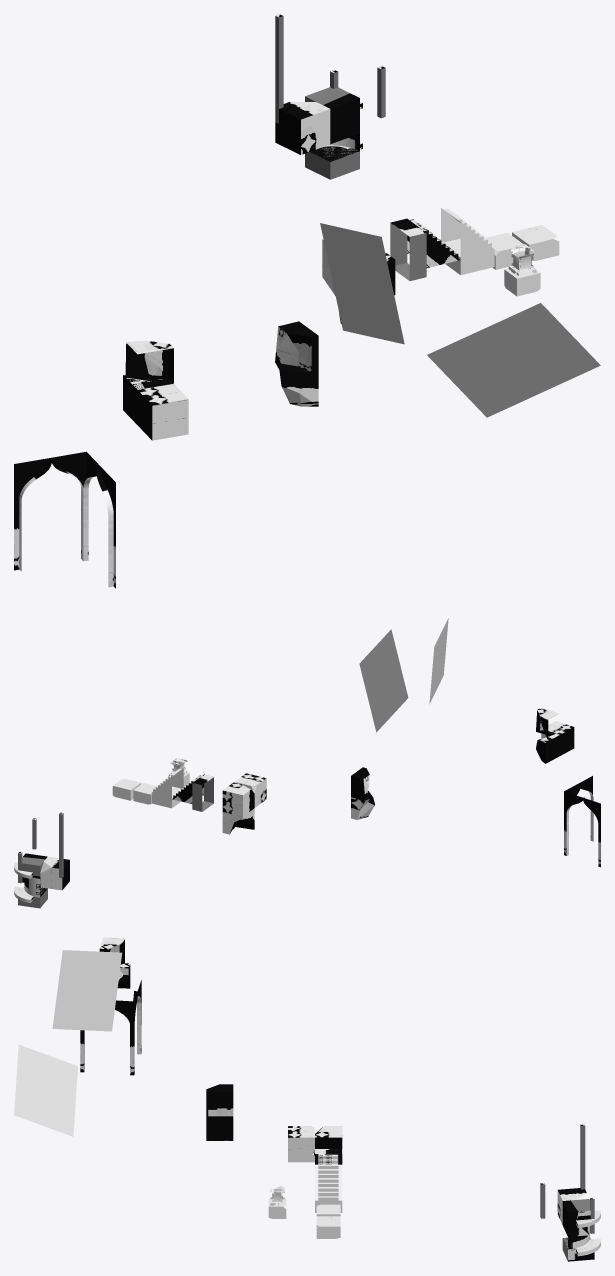
Rendered from Lighthouse.fbx.
3 renders of one model, top to bottom at view 1: azimuth 30°, elevation 25°; view 2: azimuth 150°, elevation 25°; view 3: azimuth 270°, elevation 25°, orthographic. The views are drawn at different scales.
Visible parts, largest first — view 1: Tree_trunk1 (6), Tree_trunk1 (8), Chipped_Cube2, Chipped_Cube4, Arches_Onion_Large (1), Chipped_SplitCube_E_NoBackfaces, Whitebox_cube, Arches_Onion_Large, Chipped_SplitCube_F, Chipped_Crumbled2, Whitebox_Stairs_Inset, Chipped_SplitCube_E (+7 smaller); view 2: Tree_trunk1 (6), Chipped_Cube2 (×2), Chipped_Crumbled2 (×2), Arches_Onion_Large (1), Chipped_Cube4, Tree_trunk1 (8), Whitebox_cube, Chipped_Cube3, Chipped_Crumbled1, Chipped_SplitCube_F, Whitebox_Stairs_Inset, Departure_PierSection2 (10) (+2 smaller); view 3: Tree_trunk1 (8), Tree_trunk1 (6), Whitebox_Stairs_Inset, Chipped_Cube3, Chipped_SplitCube_F, Arches_Onion_Large, Chipped_Crumbled2, Chipped_Cube2, Chipped_SplitCube_E, Departure_PierSection2 (10), Arches_Onion_Large (1), Chipped_Cube4.
Part boxes in pixels (bbox=[...]): Tree_trunk1 (6): bbox=[427, 303, 600, 417]; Tree_trunk1 (8): bbox=[320, 223, 404, 344]; Chipped_Cube2: bbox=[137, 383, 188, 440]; Chipped_Cube4: bbox=[275, 102, 330, 154]; Arches_Onion_Large (1): bbox=[14, 451, 86, 571]; Chipped_SplitCube_E_NoBackfaces: bbox=[125, 340, 173, 389]; Whitebox_cube: bbox=[390, 218, 426, 280]; Arches_Onion_Large: bbox=[83, 452, 115, 588]; Chipped_SplitCube_F: bbox=[275, 321, 318, 372]; Chipped_Crumbled2: bbox=[275, 362, 318, 406]; Whitebox_Stairs_Inset: bbox=[441, 208, 493, 257]; Chipped_SplitCube_E: bbox=[323, 93, 359, 144]; Tree_trunk1 (6): bbox=[359, 629, 408, 732]; Chipped_Cube2 (×2): bbox=[222, 721, 574, 816]; Chipped_Crumbled2 (×2): bbox=[351, 733, 559, 819]; Arches_Onion_Large (1): bbox=[564, 791, 600, 867]; Chipped_Cube4: bbox=[40, 856, 69, 890]; Tree_trunk1 (8): bbox=[429, 618, 448, 704]; Whitebox_cube: bbox=[192, 774, 213, 811]; Chipped_Cube3: bbox=[234, 773, 266, 807]; Chipped_Crumbled1: bbox=[222, 808, 254, 834]; Chipped_SplitCube_F: bbox=[351, 767, 369, 800]; Whitebox_Stairs_Inset: bbox=[152, 768, 183, 797]; Departure_PierSection2 (10): bbox=[112, 779, 141, 800]; Tree_trunk1 (8): bbox=[52, 950, 122, 1031]; Tree_trunk1 (6): bbox=[14, 1044, 77, 1136]; Whitebox_Stairs_Inset: bbox=[315, 1164, 342, 1200]; Chipped_Cube3: bbox=[288, 1126, 314, 1162]; Chipped_SplitCube_F: bbox=[206, 1084, 233, 1116]; Arches_Onion_Large: bbox=[80, 1000, 134, 1075]; Chipped_Crumbled2: bbox=[206, 1116, 233, 1140]; Chipped_Cube2: bbox=[315, 1126, 342, 1148]; Chipped_SplitCube_E: bbox=[562, 1200, 588, 1236]; Departure_PierSection2 (10): bbox=[316, 1216, 340, 1238]; Arches_Onion_Large (1): bbox=[133, 980, 141, 1074]; Chipped_Cube4: bbox=[557, 1188, 587, 1224].
Bounding box in the file's own units: 19.8 × 8.44 × 21.58.
Materials: 7 (4 with a texture image).
